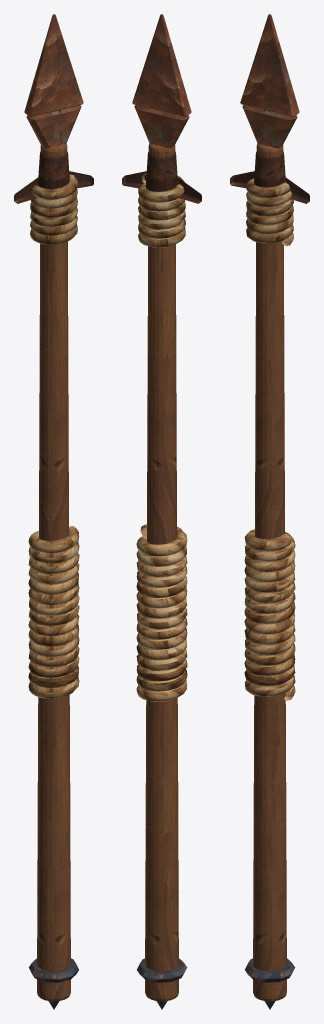
The model's file is spear_copper.glb.
3 views of the same model, side by side, from view 1: azimuth 30°, elevation 25°; view 2: azimuth 150°, elevation 25°; view 3: azimuth 330°, elevation 25° (orthographic).
Parts seen in each view (by area): view 1: model; view 2: model; view 3: model.
Boxes of the visible parts, bbox=[...] form: model: bbox=[14, 14, 93, 1009]; model: bbox=[122, 14, 201, 1009]; model: bbox=[230, 14, 309, 1009].
Bounding box in the file's own units: 0.12 × 1.47 × 0.069.
Materials: 7 (7 with a texture image).
